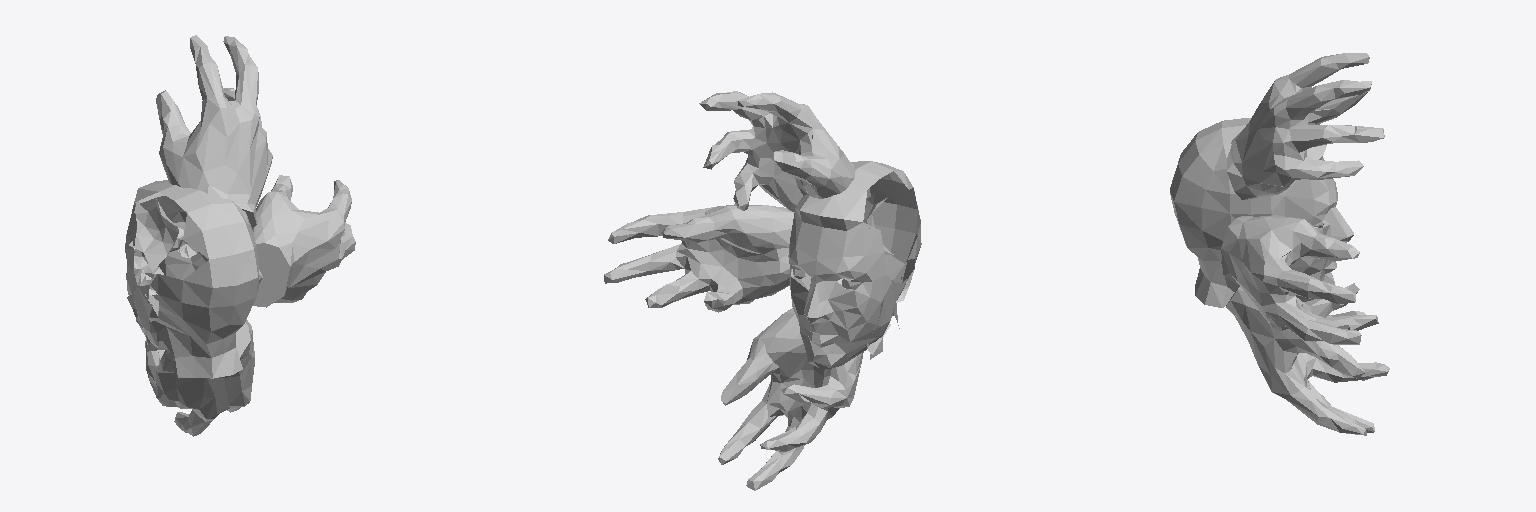
3 views of the same model, side by side, from view 1: azimuth 30°, elevation 25°; view 2: azimuth 150°, elevation 25°; view 3: azimuth 270°, elevation 25° (orthographic).
Visible parts, largest first — view 1: model1:Hand_SUPERfinal_0_1; view 2: model1:Hand_SUPERfinal_0_1; view 3: model1:Hand_SUPERfinal_0_1.
Part boxes in pixels (x1,y1,x2,y2): model1:Hand_SUPERfinal_0_1: (125, 35, 355, 436); model1:Hand_SUPERfinal_0_1: (604, 91, 921, 490); model1:Hand_SUPERfinal_0_1: (1170, 53, 1389, 435).
Bounding box in the file's own units: 227 × 336 × 175.